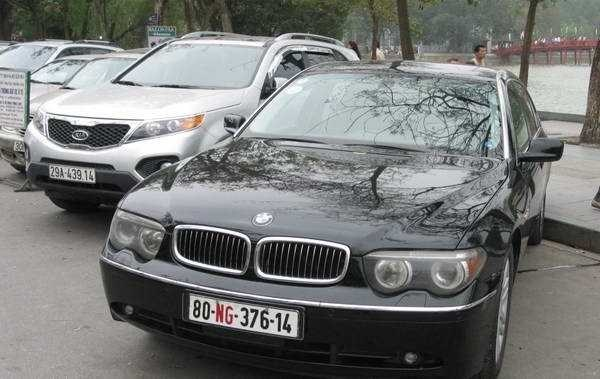plate: (186, 289, 300, 338), (47, 163, 96, 184)
